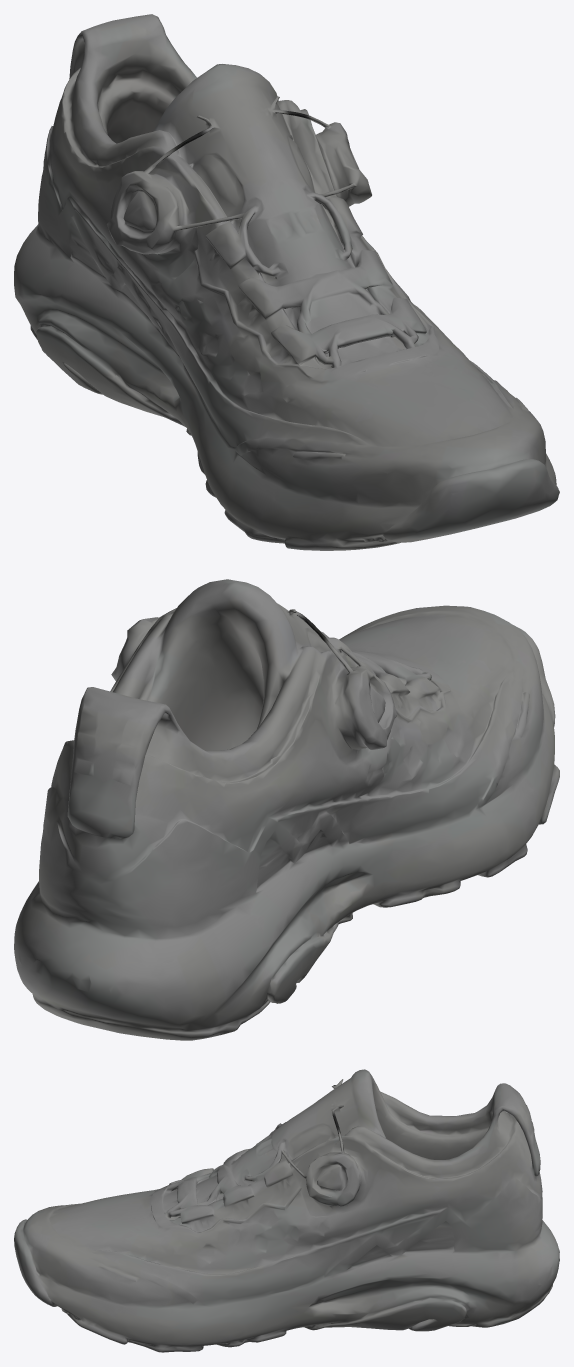
File: adaptis-sneakers-for-men-green.glb
3 renders of one model, top to bottom at view 1: azimuth 30°, elevation 25°; view 2: azimuth 150°, elevation 25°; view 3: azimuth 270°, elevation 25°, orthographic. The views are drawn at different scales.
Visible parts, largest first — view 1: tripo_node_70e21fd5-a883-4478-9c21-39a8491f2dc4; view 2: tripo_node_70e21fd5-a883-4478-9c21-39a8491f2dc4; view 3: tripo_node_70e21fd5-a883-4478-9c21-39a8491f2dc4.
Part boxes in pixels (<box>): tripo_node_70e21fd5-a883-4478-9c21-39a8491f2dc4: <box>14,14,559,550</box>; tripo_node_70e21fd5-a883-4478-9c21-39a8491f2dc4: <box>14,579,559,1040</box>; tripo_node_70e21fd5-a883-4478-9c21-39a8491f2dc4: <box>14,1069,559,1352</box>.
Bounding box in the file's own units: 0.4051 × 0.4691 × 1.
1 material, 1 textured.
